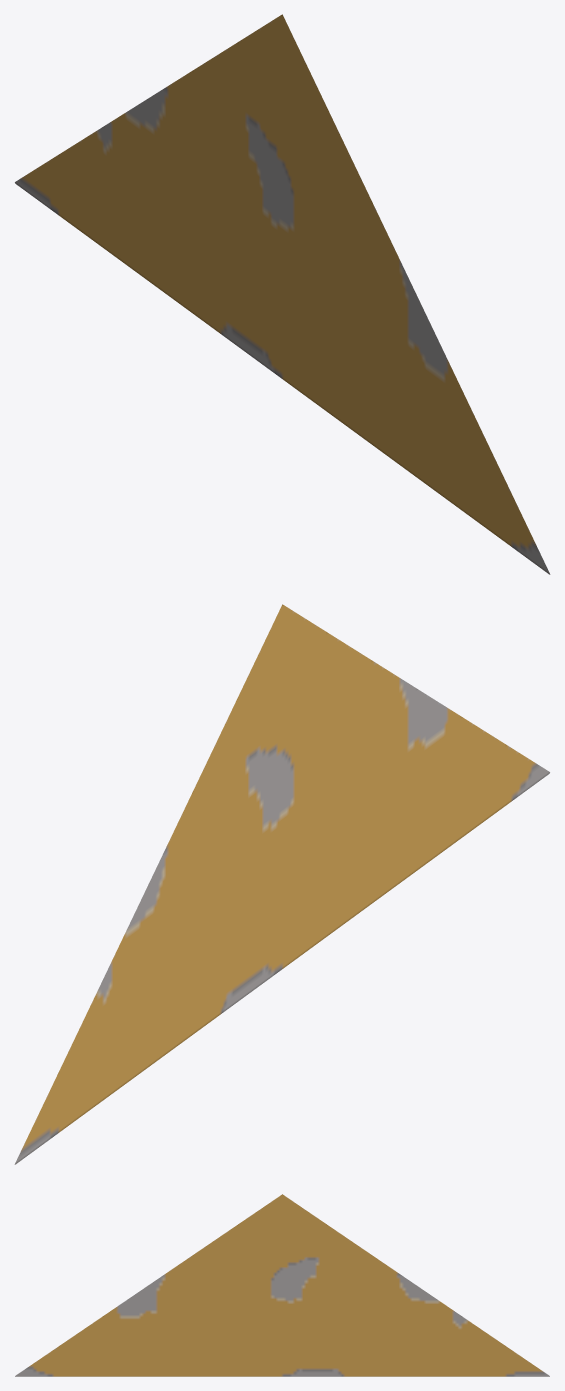
File: TrianguloNaranja2.fbx
3 views of the same model, one above another, from view 1: azimuth 30°, elevation 25°; view 2: azimuth 150°, elevation 25°; view 3: azimuth 270°, elevation 25° (orthographic). The views are drawn at different scales.
Visible parts, largest first — view 1: plane; view 2: plane; view 3: plane.
Part boxes in pixels (x1,y1,x2,y2): plane: [15, 14, 550, 574]; plane: [14, 604, 549, 1164]; plane: [15, 1194, 549, 1376].
Bounding box in the file's own units: 1.84e-14 × 113 × 300.
1 material, 1 textured.
